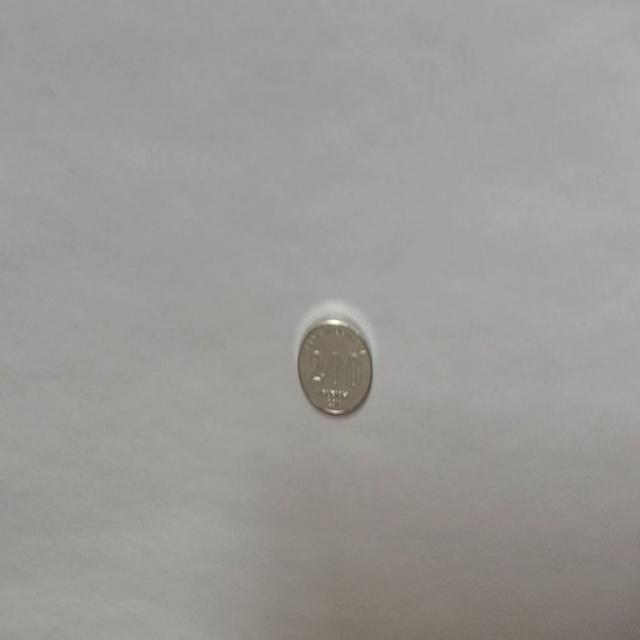dua ratus rupiah: (296, 314, 373, 417)
